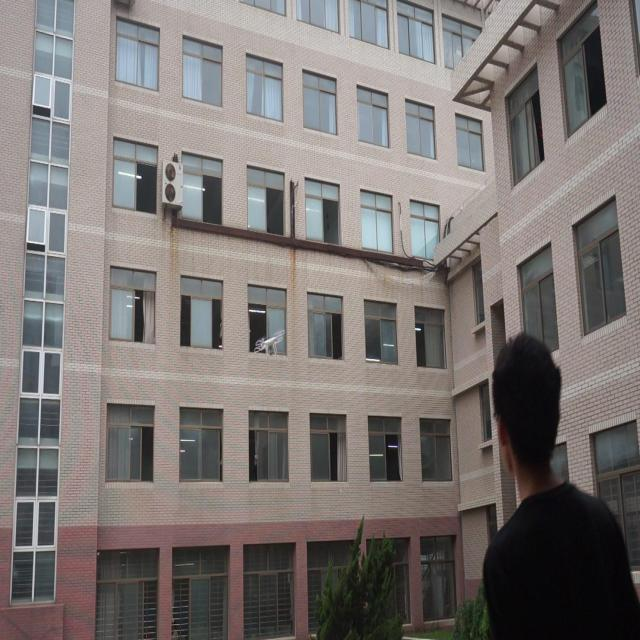drone: (254, 329, 286, 361)
